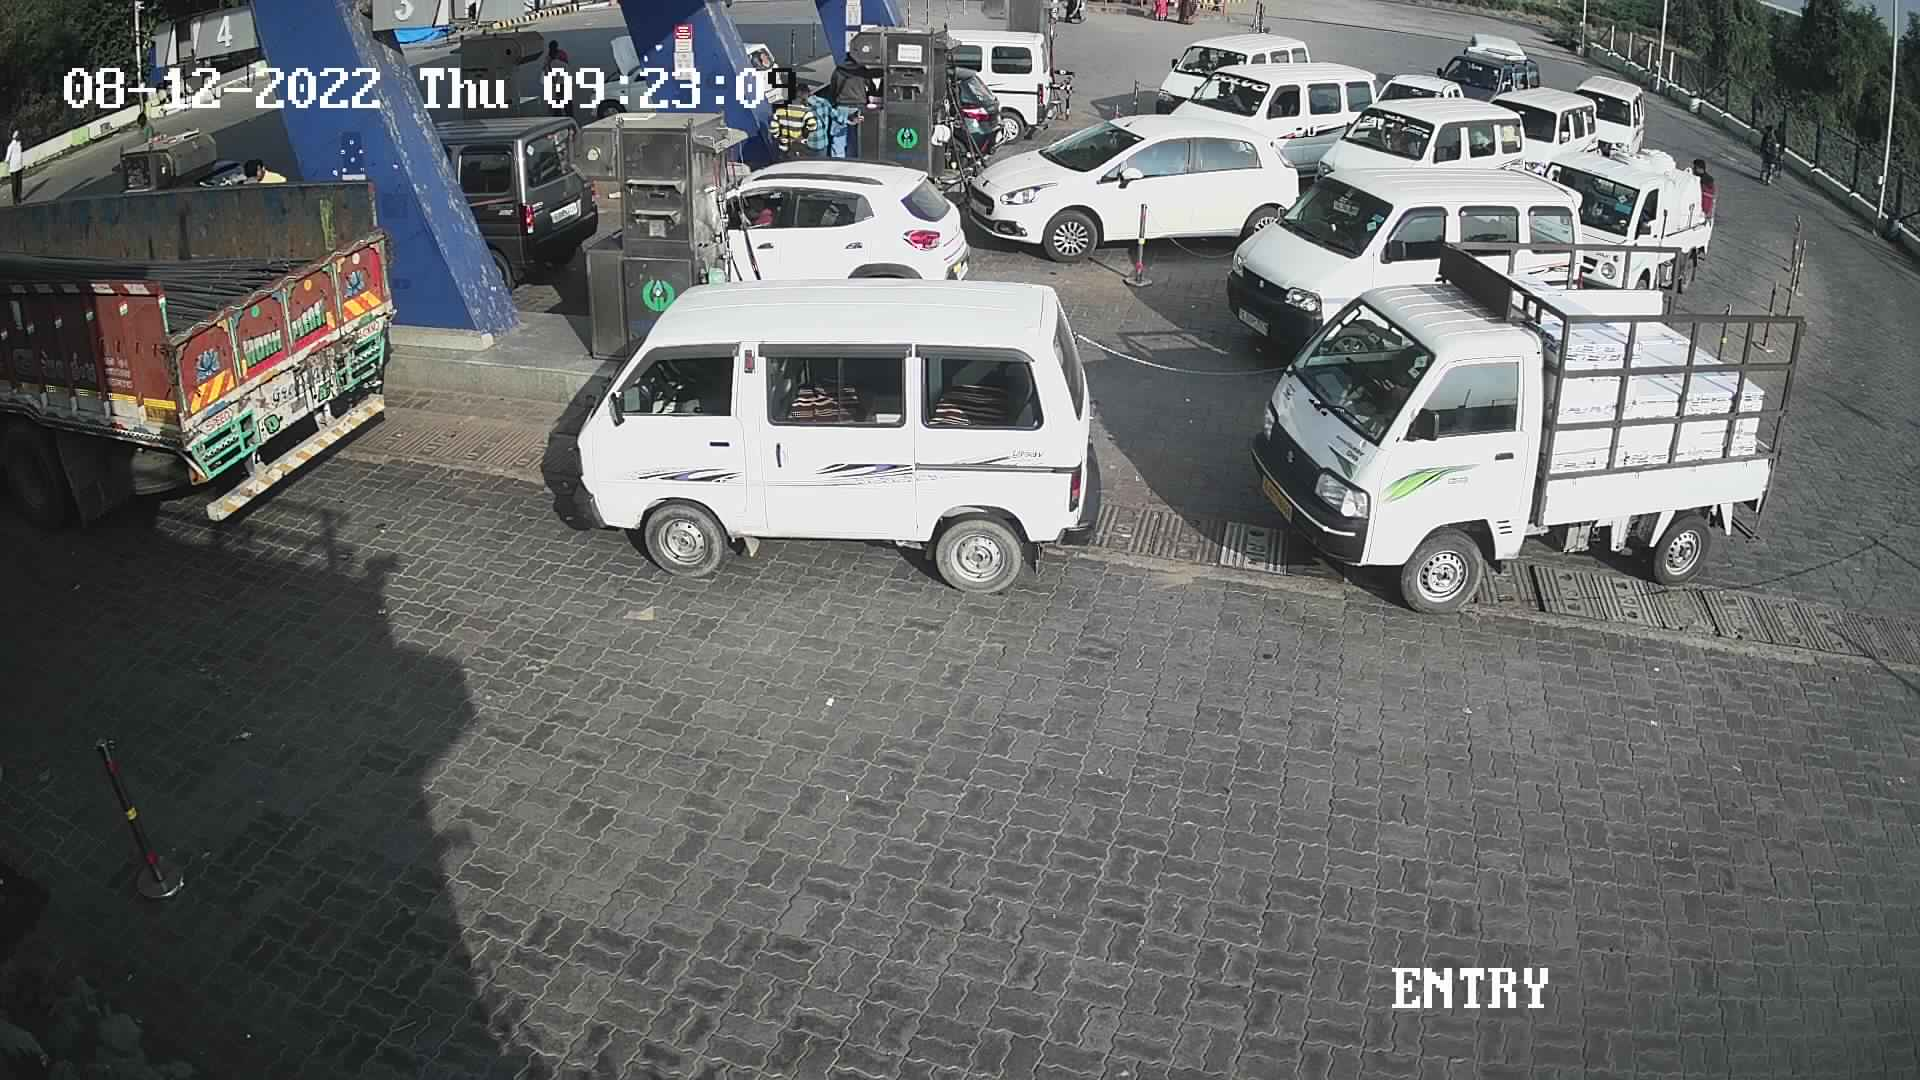Car: (1233, 224, 1824, 632), (556, 255, 1114, 615), (1211, 144, 1601, 380), (955, 102, 1317, 276), (709, 137, 982, 301), (415, 99, 612, 324), (1514, 125, 1724, 318), (1158, 47, 1390, 203), (1305, 86, 1538, 219), (916, 15, 1075, 158), (1142, 18, 1324, 125), (1482, 74, 1610, 187), (930, 53, 1014, 189), (1561, 62, 1658, 165), (1427, 40, 1551, 116), (733, 26, 802, 125), (175, 140, 266, 214), (1361, 61, 1473, 117), (1465, 24, 1542, 69)
HMV: (4, 146, 411, 575)
